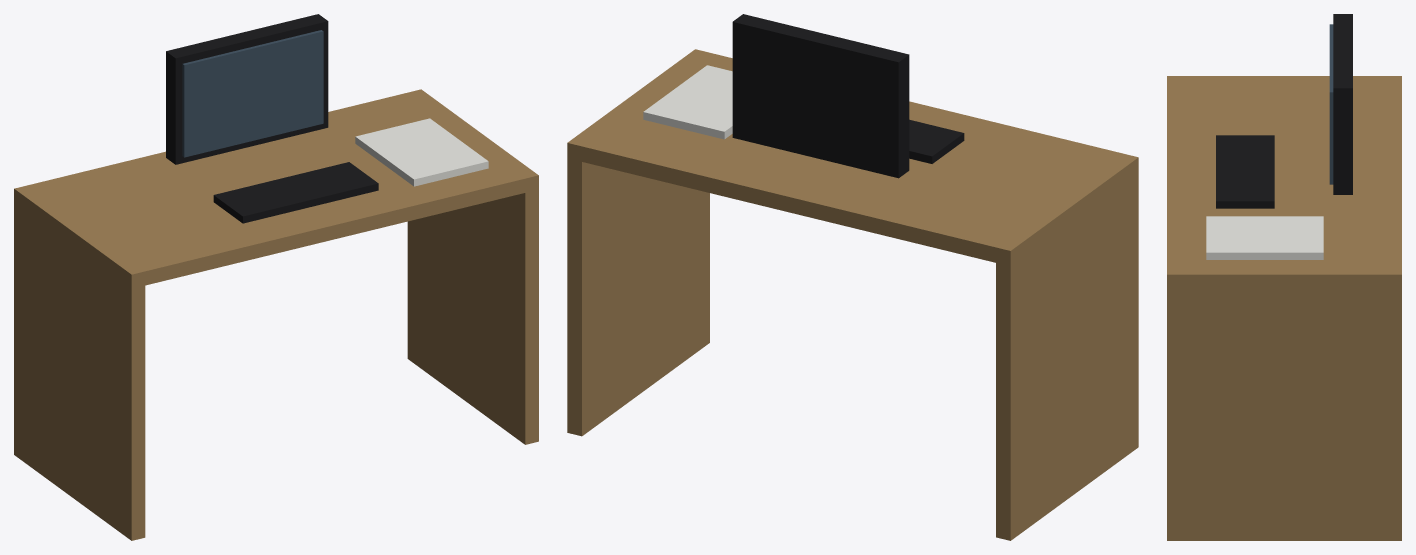
Rendered from office desk.glb.
The picture shows the model from 3 angles, left to right: view 1: azimuth 30°, elevation 25°; view 2: azimuth 150°, elevation 25°; view 3: azimuth 270°, elevation 25°; orthographic projection. The views are drawn at different scales.
Visible parts, largest first — view 1: office desk; view 2: office desk; view 3: office desk.
Part boxes in pixels (x1=…): office desk: x1=14, y1=14, x2=538, y2=540; office desk: x1=567, y1=14, x2=1138, y2=540; office desk: x1=1167, y1=14, x2=1401, y2=540.
Size of the model in its own units: 1.2 by 1.1 by 0.6.
